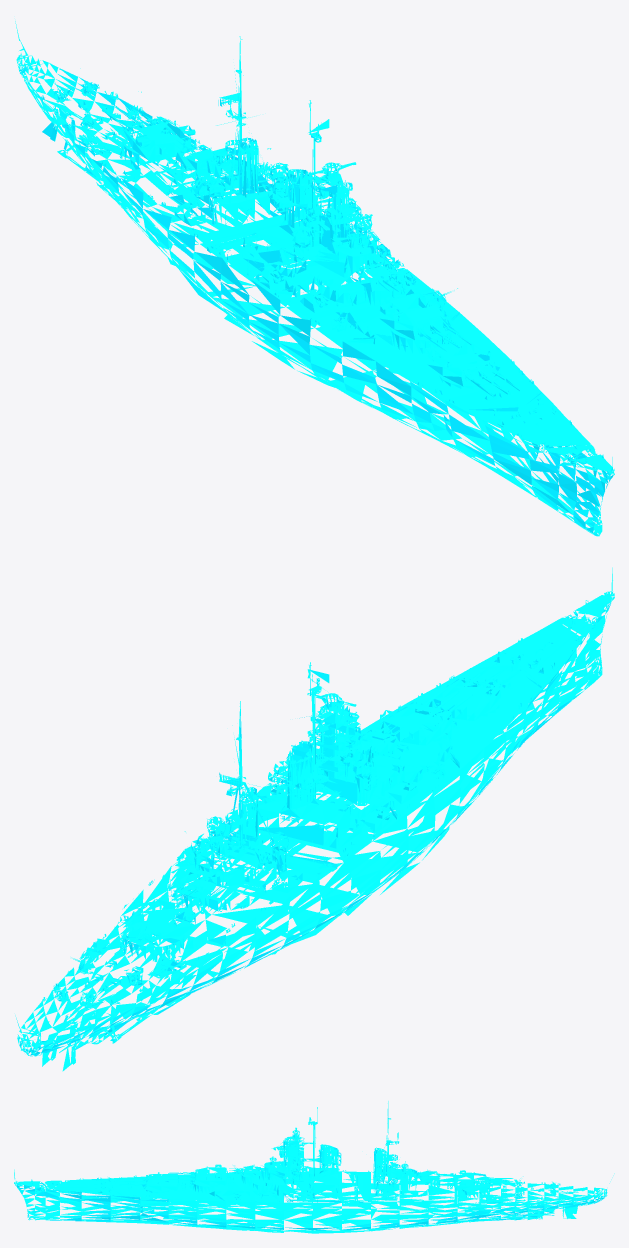
The model's file is PGSB508.glb.
3 renders of one model, top to bottom at view 1: azimuth 30°, elevation 25°; view 2: azimuth 150°, elevation 25°; view 3: azimuth 270°, elevation 25°, orthographic. The views are drawn at different scales.
Visible parts, largest first — view 1: hull, turret; view 2: hull, turret; view 3: hull, turret.
Boxes of the visible parts, x1,y1,x2,y2 form: hull: [15, 21, 614, 536]; turret: [51, 68, 543, 416]; hull: [15, 567, 614, 1071]; turret: [54, 656, 543, 1008]; hull: [14, 1101, 614, 1233]; turret: [108, 1159, 556, 1202].
Bounding box in the file's own units: 2 × 3.44 × 15.69.
